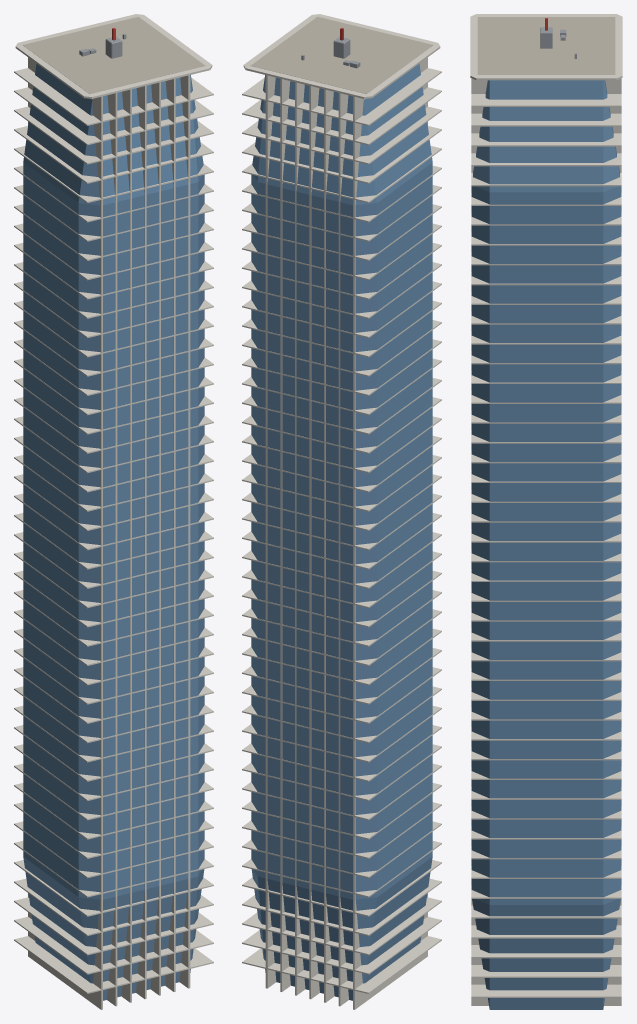
File: tower_grid_h180.glb
3 renders of one model, left to right at view 1: azimuth 30°, elevation 25°; view 2: azimuth 150°, elevation 25°; view 3: azimuth 270°, elevation 25°, orthographic. The views are drawn at different scales.
Parts seen in each view (by area): view 1: glasscore, gridroof, mullv, mullv.006, mullv.001, mullv.003, mullv.005, mullv.002, mullv.004, gridlip, mullh, mullh.045 (+44 smaller); view 2: glasscore, gridroof, mullv, mullv.006, mullv.003, mullv.001, mullv.005, mullv.002, mullv.004, gridlip, mullh, mullh.045 (+44 smaller); view 3: glasscore, gridroof, gridlip, mullv.006, mullh, mullh.045, mullh.044, mullh.001, mullh.002, mullh.043, mullh.003, mullh.042 (+38 smaller).
Boxes of the visible parts, <box> form: glasscore: <box>23,63,204,1000</box>; gridroof: <box>23,16,205,93</box>; mullv: <box>28,57,102,1009</box>; mullv.006: <box>179,75,190,988</box>; mullv.001: <box>107,93,117,1006</box>; mullv.003: <box>136,85,146,999</box>; mullv.005: <box>165,78,175,991</box>; mullv.002: <box>121,89,131,1002</box>; mullv.004: <box>150,82,160,995</box>; gridlip: <box>15,14,212,98</box>; mullh: <box>14,936,213,993</box>; mullh.045: <box>14,68,213,125</box>; glasscore: <box>251,63,432,1000</box>; gridroof: <box>250,16,432,93</box>; mullv: <box>353,57,427,1009</box>; mullv.006: <box>265,75,276,988</box>; mullv.003: <box>309,85,319,999</box>; mullv.001: <box>338,93,348,1006</box>; mullv.005: <box>280,78,290,991</box>; mullv.002: <box>324,89,334,1002</box>; mullv.004: <box>295,82,305,995</box>; gridlip: <box>243,14,440,98</box>; mullh: <box>242,936,441,993</box>; mullh.045: <box>242,68,441,125</box>; glasscore: <box>471,80,621,1009</box>; gridroof: <box>477,17,615,74</box>; gridlip: <box>470,14,622,80</box>; mullv.006: <box>471,78,621,1005</box>; mullh: <box>471,984,621,997</box>; mullh.045: <box>471,94,621,106</box>; mullh.044: <box>471,113,621,126</box>; mullh.001: <box>471,965,621,977</box>; mullh.002: <box>471,945,621,958</box>; mullh.043: <box>471,133,621,146</box>; mullh.003: <box>471,925,621,938</box>; mullh.042: <box>471,153,621,166</box>.
Bounding box in the file's own units: 26.5 × 186 × 26.5.
